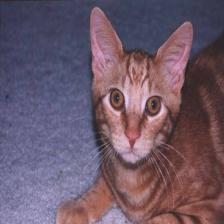cat: (90, 5, 195, 168)
